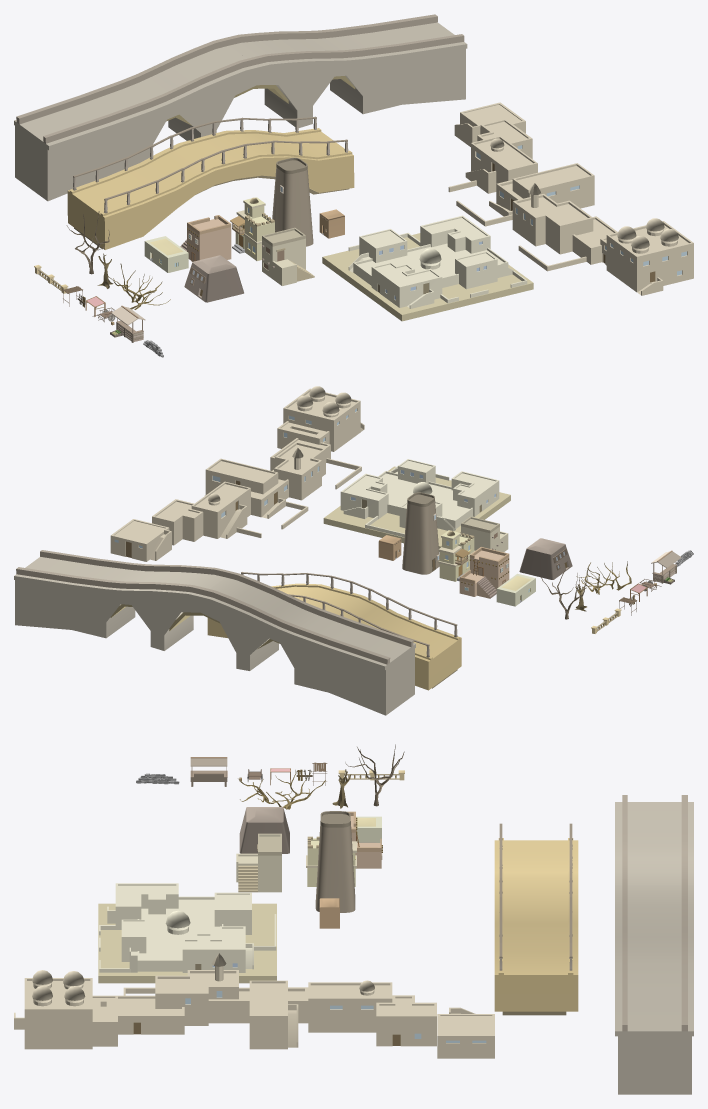
The model's file is world_model.gltf.
3 views of the same model, one above another, from view 1: azimuth 30°, elevation 25°; view 2: azimuth 150°, elevation 25°; view 3: azimuth 270°, elevation 25° (orthographic). The views are drawn at different scales.
Parts seen in each view (by area): view 1: New_Game_Object (×3), New_Game_Object1 (×7), New_Game_Object_Clone_1, New_Game_Object_Clone_, New_Game_Object_Clone__Clone__Clone__Clone_, New_Game_Object_Clone__Clone__Clone_, New_Game_Object2; view 2: New_Game_Object (×3), New_Game_Object1 (×7), New_Game_Object_Clone_, New_Game_Object_Clone_1, New_Game_Object_Clone__Clone__Clone_, New_Game_Object2; view 3: New_Game_Object (×4), New_Game_Object1 (×6), New_Game_Object_Clone_1, New_Game_Object_Clone_ (×2), New_Game_Object2, New_Game_Object_Clone__Clone__Clone__Clone_, New_Game_Object_Clone__Clone__Clone_.
Boxes of the visible parts, x1=… form: New_Game_Object (×3): x1=14, y1=22, x2=693, y2=321; New_Game_Object1 (×7): x1=144, y1=167, x2=527, y2=308; New_Game_Object_Clone_1: x1=67, y1=128, x2=354, y2=249; New_Game_Object_Clone_: x1=16, y1=14, x2=464, y2=143; New_Game_Object_Clone__Clone__Clone__Clone_: x1=73, y1=116, x2=316, y2=177; New_Game_Object_Clone__Clone__Clone_: x1=104, y1=139, x2=347, y2=200; New_Game_Object2: x1=319, y1=209, x2=344, y2=238; New_Game_Object (×3): x1=14, y1=386, x2=510, y2=715; New_Game_Object1 (×7): x1=340, y1=459, x2=572, y2=606; New_Game_Object_Clone_: x1=16, y1=550, x2=413, y2=664; New_Game_Object_Clone_1: x1=207, y1=583, x2=461, y2=690; New_Game_Object_Clone__Clone__Clone_: x1=241, y1=572, x2=457, y2=625; New_Game_Object2: x1=378, y1=535, x2=401, y2=560; New_Game_Object (×4): x1=14, y1=770, x2=693, y2=1094; New_Game_Object1 (×6): x1=99, y1=807, x2=381, y2=972; New_Game_Object_Clone_1: x1=494, y1=838, x2=578, y2=1011; New_Game_Object_Clone_ (×2): x1=238, y1=795, x2=687, y2=1031; New_Game_Object2: x1=319, y1=898, x2=339, y2=928; New_Game_Object_Clone__Clone__Clone__Clone_: x1=569, y1=823, x2=572, y2=957; New_Game_Object_Clone__Clone__Clone_: x1=499, y1=823, x2=502, y2=957.
Size of the model in its own units: 121 by 24.08 by 118.
